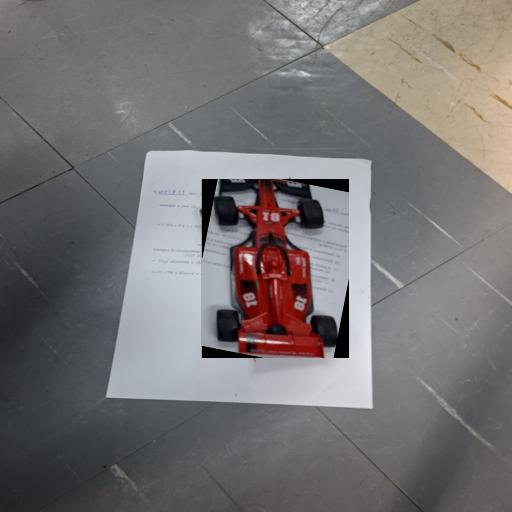carro: (200, 180, 347, 358)
